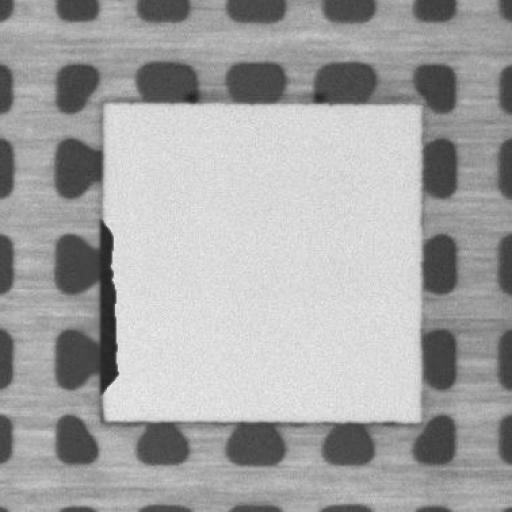DIE_BROKEN: (95, 218, 120, 393)
